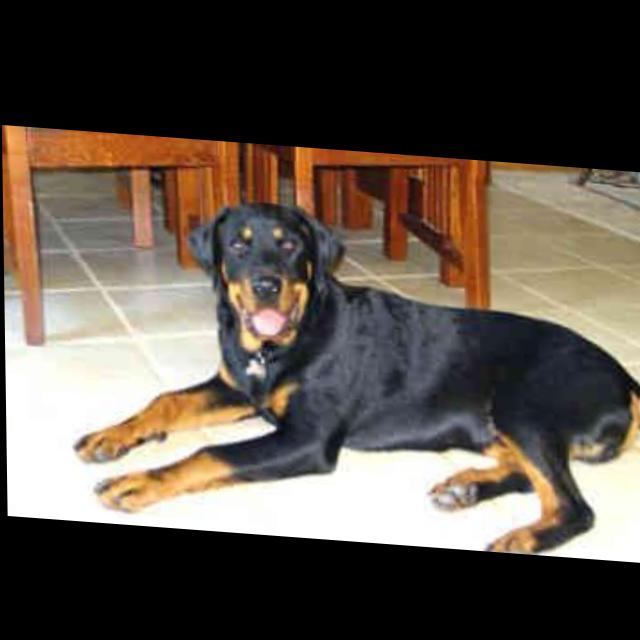rottweiler: (69, 184, 640, 553)
